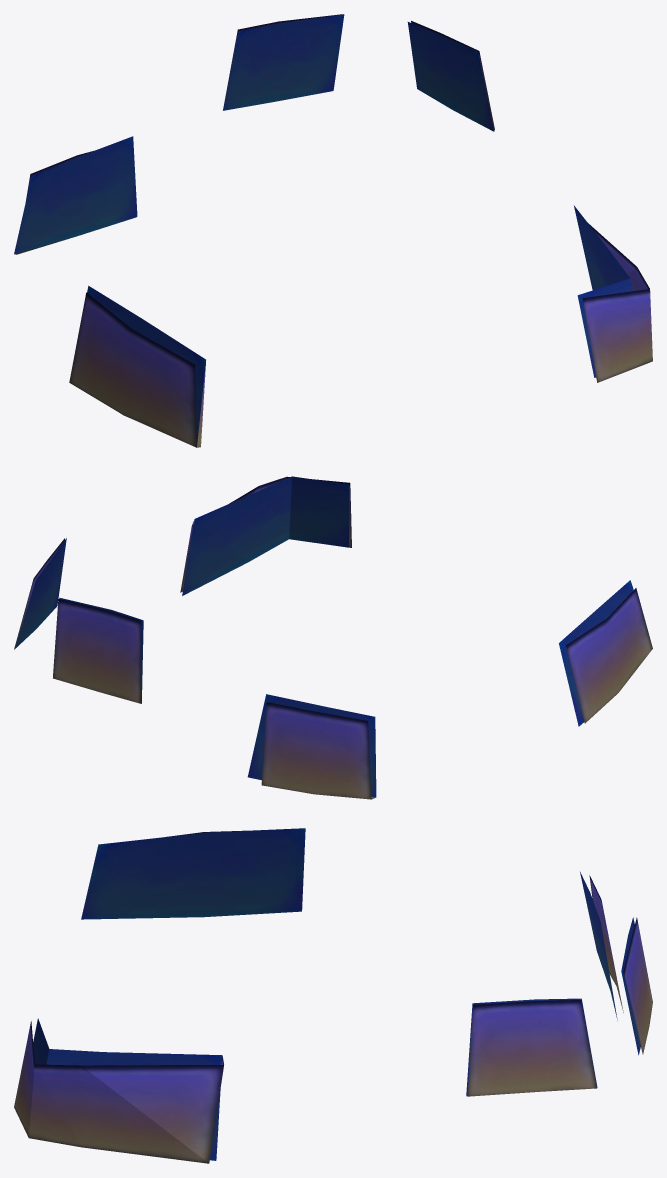
File: settler_house_60m_glass.DAE
3 views of the same model, one above another, from view 1: azimuth 30°, elevation 25°; view 2: azimuth 150°, elevation 25°; view 3: azimuth 270°, elevation 25° (orthographic). The views are drawn at different scales.
Parts seen in each view (by area): view 1: Box03c; view 2: Box03c; view 3: Box03c.
Boxes of the visible parts, bbox=[...] form: Box03c: bbox=[14, 14, 652, 447]; Box03c: bbox=[14, 476, 652, 799]; Box03c: bbox=[14, 828, 652, 1163].
Bounding box in the file's own units: 49.26 × 14.59 × 51.18.
